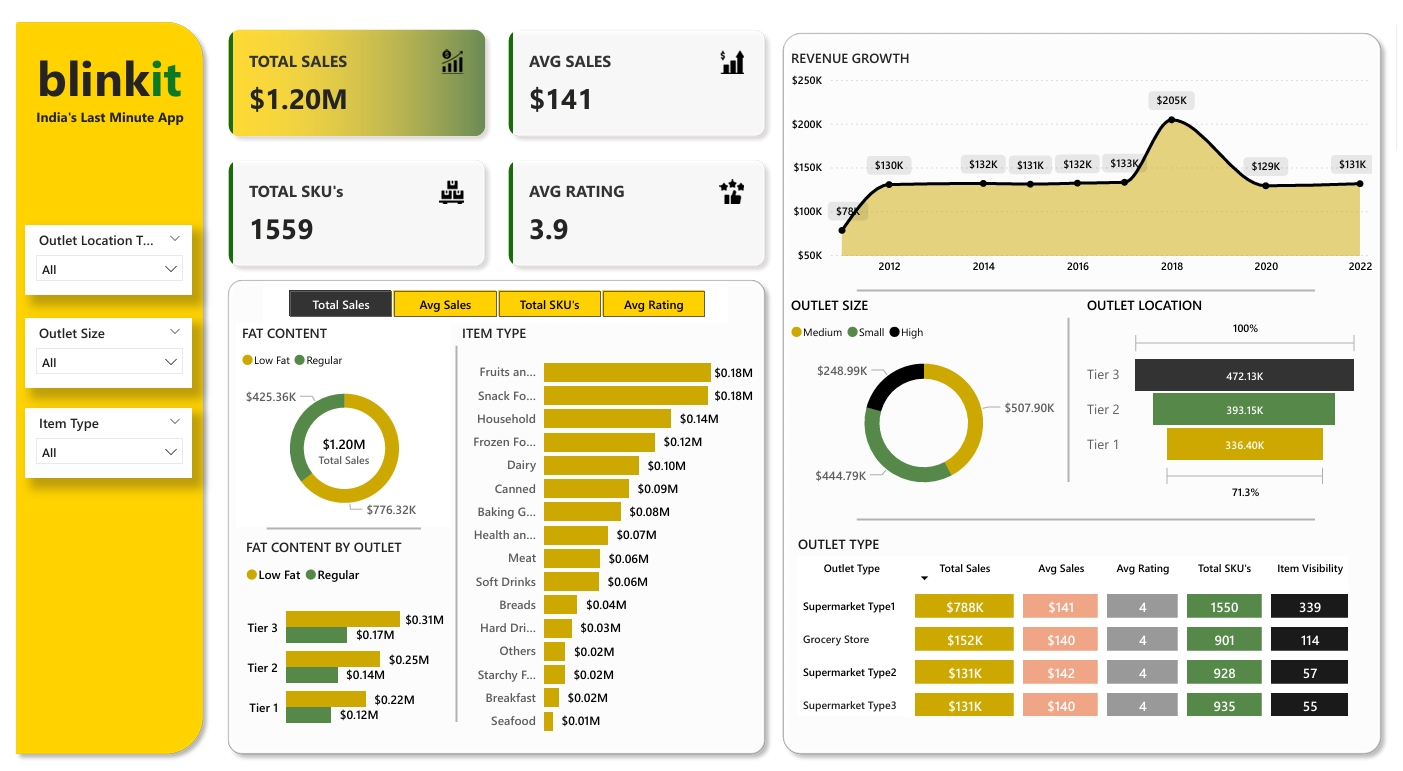

Layout of this report page (visuals, bound fields, positions):
{"tool":"powerbi","page":{"name":"Page 1","canvas":[1400,800],"ordinal":0},"visuals":[{"type":"shape","box":[9.6,24.5,205.3,750],"z":0},{"type":"textbox","box":[28.7,50,167,80.9],"z":1000},{"type":"textbox","box":[30.9,113.8,163.8,34],"z":2000},{"type":"cardVisual","fields":{"Data":["BlinkIT Grocery Data.Total Sales","BlinkIT Grocery Data.Avg Sales","BlinkIT Grocery Data.Total SKU's","BlinkIT Grocery Data.Avg Rating"]},"box":[214.9,24.5,570.2,270.2],"z":3000},{"type":"shape","box":[222.3,281.9,554.3,492.6],"z":4000},{"type":"donutChart","title":"FAT CONTENT","fields":{"Y":["BlinkIT Grocery Data.Total Sales"],"Category":["BlinkIT Grocery Data.Item Fat Content"]},"box":[240.4,335.1,214.9,204.3],"z":5000},{"type":"slicer","fields":{"Values":["Metrics.Metrics"]},"box":[267,294.7,464.9,40.4],"z":6000},{"type":"cardVisual","fields":{"Data":["BlinkIT Grocery Data.Total Sales"]},"box":[301.1,428.7,92.6,53.2],"z":7000},{"type":"clusteredBarChart","title":"FAT CONTENT BY OUTLET","fields":{"Y":["BlinkIT Grocery Data.Total Sales"],"Category":["BlinkIT Grocery Data.Outlet Location Type"],"Series":["BlinkIT Grocery Data.Item Fat Content"]},"box":[243.6,548.9,208.5,207.4],"z":8000},{"type":"shape","box":[270.2,533,154.3,12.8],"z":9000},{"type":"shape","box":[455.3,357.4,8.5,375.5],"z":10000},{"type":"barChart","title":"ITEM TYPE","fields":{"Y":["BlinkIT Grocery Data.Total Sales"],"Category":["BlinkIT Grocery Data.Item Type"]},"box":[459.6,335.1,301.1,421.3],"z":11000},{"type":"shape","box":[776.6,35.1,616,739.4],"z":12000},{"type":"lineChart","title":"REVENUE GROWTH","fields":{"Y":["BlinkIT Grocery Data.Total Sales"],"Category":["BlinkIT Grocery Data.Outlet Establishment Year"]},"box":[789.4,59.6,590.4,235.1],"z":13000},{"type":"shape","box":[859.6,288.3,458.5,26.6],"z":14000},{"type":"donutChart","title":"OUTLET SIZE","fields":{"Y":["BlinkIT Grocery Data.Total Sales"],"Category":["BlinkIT Grocery Data.Outlet Size"]},"box":[789.4,307.4,275.5,209.6],"z":15000},{"type":"shape","box":[1064.9,328.7,12.8,163.8],"z":16000},{"type":"funnel","title":"OUTLET LOCATION","fields":{"Y":["Sum(BlinkIT Grocery Data.Sales)"],"Category":["BlinkIT Grocery Data.Outlet Location Type"]},"box":[1085.1,307.4,281.9,209.6],"z":17000},{"type":"shape","box":[859.6,517,458.5,26.6],"z":18000},{"type":"pivotTable","title":"OUTLET TYPE","fields":{"Values":["BlinkIT Grocery Data.Total Sales","BlinkIT Grocery Data.Avg Sales","BlinkIT Grocery Data.Avg Rating","BlinkIT Grocery Data.Total SKU's","Sum(BlinkIT Grocery Data.Item Visibility)"],"Rows":["BlinkIT Grocery Data.Outlet Type"]},"box":[795.7,545.7,577.7,201.1],"z":19000},{"type":"slicer","fields":{"Values":["BlinkIT Grocery Data.Outlet Location Type"]},"box":[28.7,237.2,167,70.2],"z":20000},{"type":"slicer","fields":{"Values":["BlinkIT Grocery Data.Outlet Size"]},"box":[28.7,329.8,167,70.2],"z":21000},{"type":"slicer","fields":{"Values":["BlinkIT Grocery Data.Item Type"]},"box":[28.7,420.2,167,70.2],"z":22000}]}

Visuals, with their boxes on the page's 1400x800 design canvas (x1, y1, x2, y2). These are canvas units, not pixel positions in the 1403x771 screenshot, which may show the page scaled, cropped or inside an application window:
shape: region(10, 24, 215, 774)
textbox: region(29, 50, 196, 131)
textbox: region(31, 114, 195, 148)
cardVisual - BlinkIT Grocery Data.Total Sales x BlinkIT Grocery Data.Avg Sales: region(215, 24, 785, 295)
shape: region(222, 282, 777, 774)
"FAT CONTENT" donutChart: region(240, 335, 455, 539)
slicer - Metrics.Metrics: region(267, 295, 732, 335)
cardVisual - BlinkIT Grocery Data.Total Sales: region(301, 429, 394, 482)
"FAT CONTENT BY OUTLET" clusteredBarChart: region(244, 549, 452, 756)
shape: region(270, 533, 424, 546)
shape: region(455, 357, 464, 733)
"ITEM TYPE" barChart: region(460, 335, 761, 756)
shape: region(777, 35, 1393, 774)
"REVENUE GROWTH" lineChart: region(789, 60, 1380, 295)
shape: region(860, 288, 1318, 315)
"OUTLET SIZE" donutChart: region(789, 307, 1065, 517)
shape: region(1065, 329, 1078, 492)
"OUTLET LOCATION" funnel: region(1085, 307, 1367, 517)
shape: region(860, 517, 1318, 544)
"OUTLET TYPE" pivotTable: region(796, 546, 1373, 747)
slicer - BlinkIT Grocery Data.Outlet Location Type: region(29, 237, 196, 307)
slicer - BlinkIT Grocery Data.Outlet Size: region(29, 330, 196, 400)
slicer - BlinkIT Grocery Data.Item Type: region(29, 420, 196, 490)
